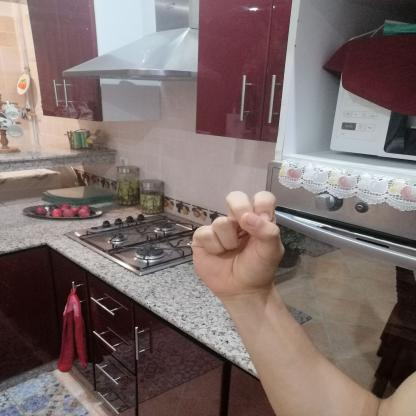QAAF: (179, 184, 303, 306)
